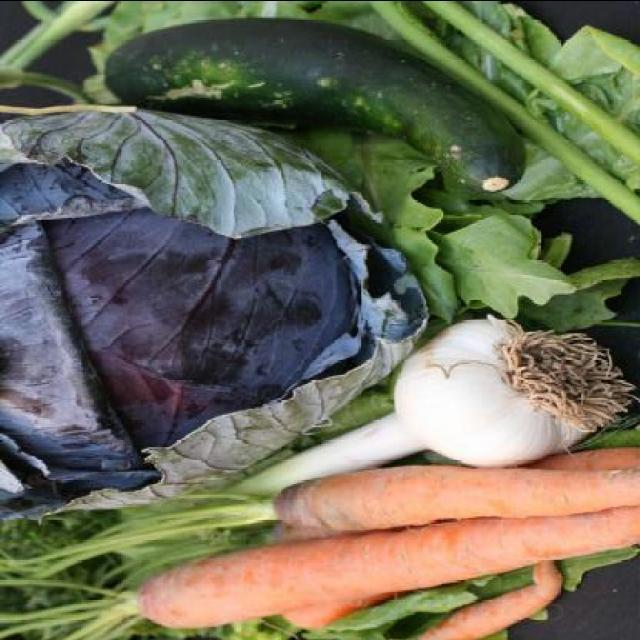Zucchini: (80, 10, 514, 210)
